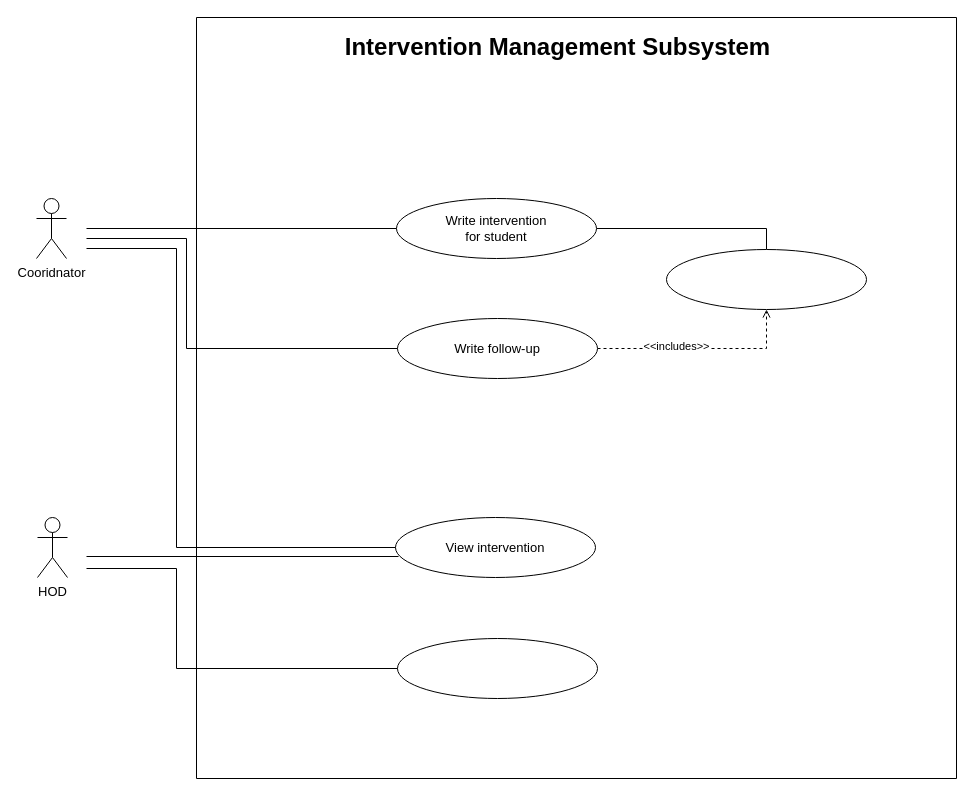
This 974x796 diagram has some shape labels left out. Here are the shapes that lost their labels. From the top down, the centre of each, then its label:
pixel 766 279: Notify Coordinator for check up
pixel 497 668: View follow-up
